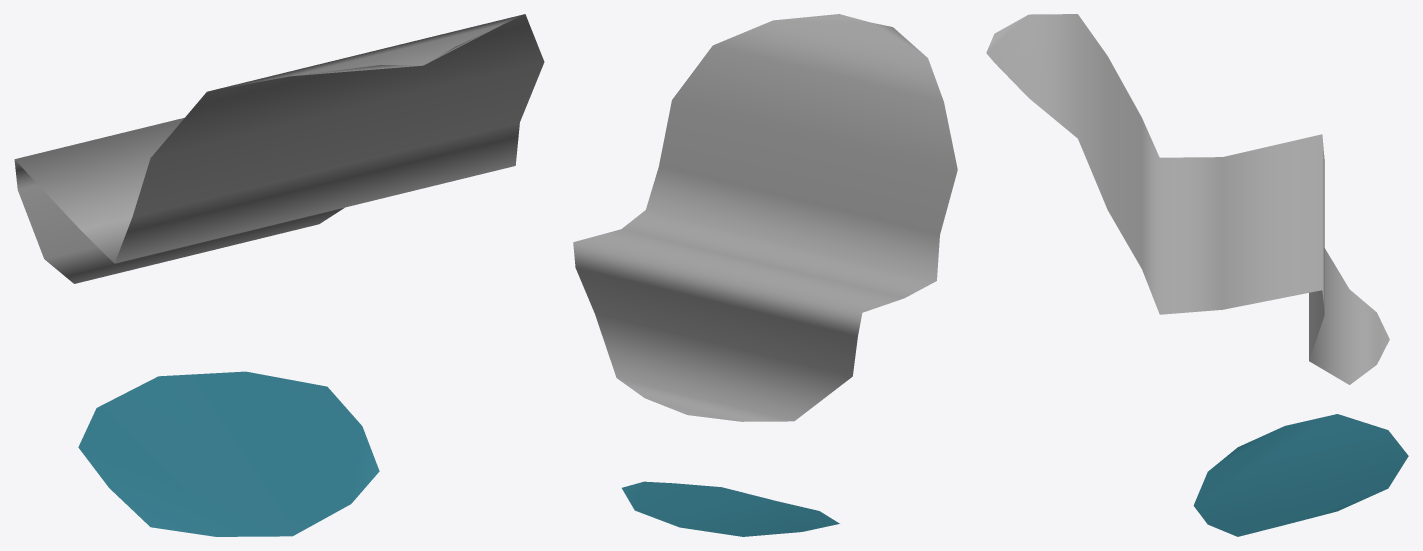
Rendered from fy_hof_visage_interface.max.fbx.
The picture shows the model from 3 angles, left to right: view 1: azimuth 30°, elevation 25°; view 2: azimuth 150°, elevation 25°; view 3: azimuth 270°, elevation 25°; orthographic projection. The views are drawn at different scales.
Visible parts, largest first — view 1: Shape01, int_cou_tet; view 2: Shape01, int_cou_tet; view 3: Shape01, int_cou_tet.
Boxes of the visible parts, box(x1,y1,x2,y2) form: Shape01: box(14, 14, 544, 283); int_cou_tet: box(78, 371, 379, 536); Shape01: box(573, 14, 957, 421); int_cou_tet: box(622, 481, 839, 536); Shape01: box(986, 14, 1389, 384); int_cou_tet: box(1193, 414, 1408, 536).
Size of the model in its own units: 0.1272 by 0.173 by 0.1446.
